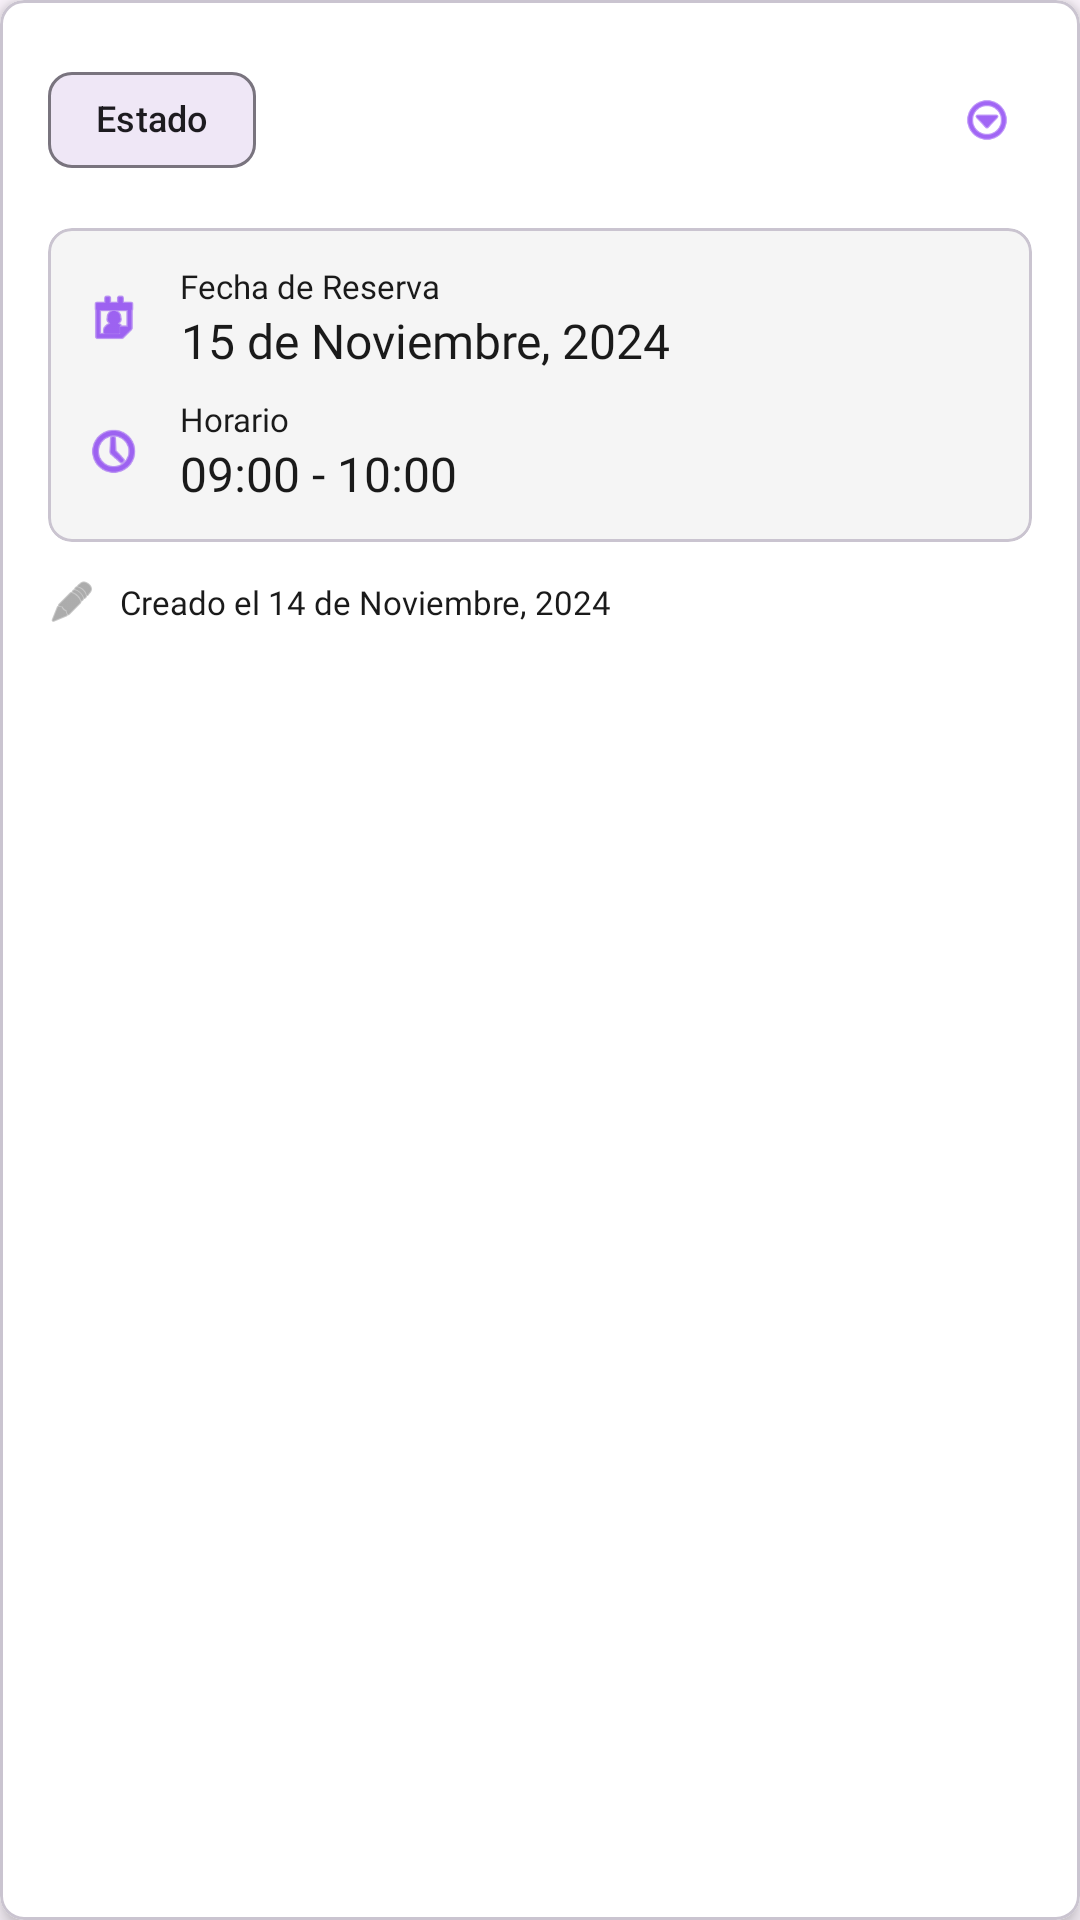

Named icons in this screenshot (1080×1920) and their centers, (x=x, y=y):
calendar: (x=114, y=317)
edit: (x=72, y=601)
more: (x=987, y=120)
recent history: (x=113, y=451)
